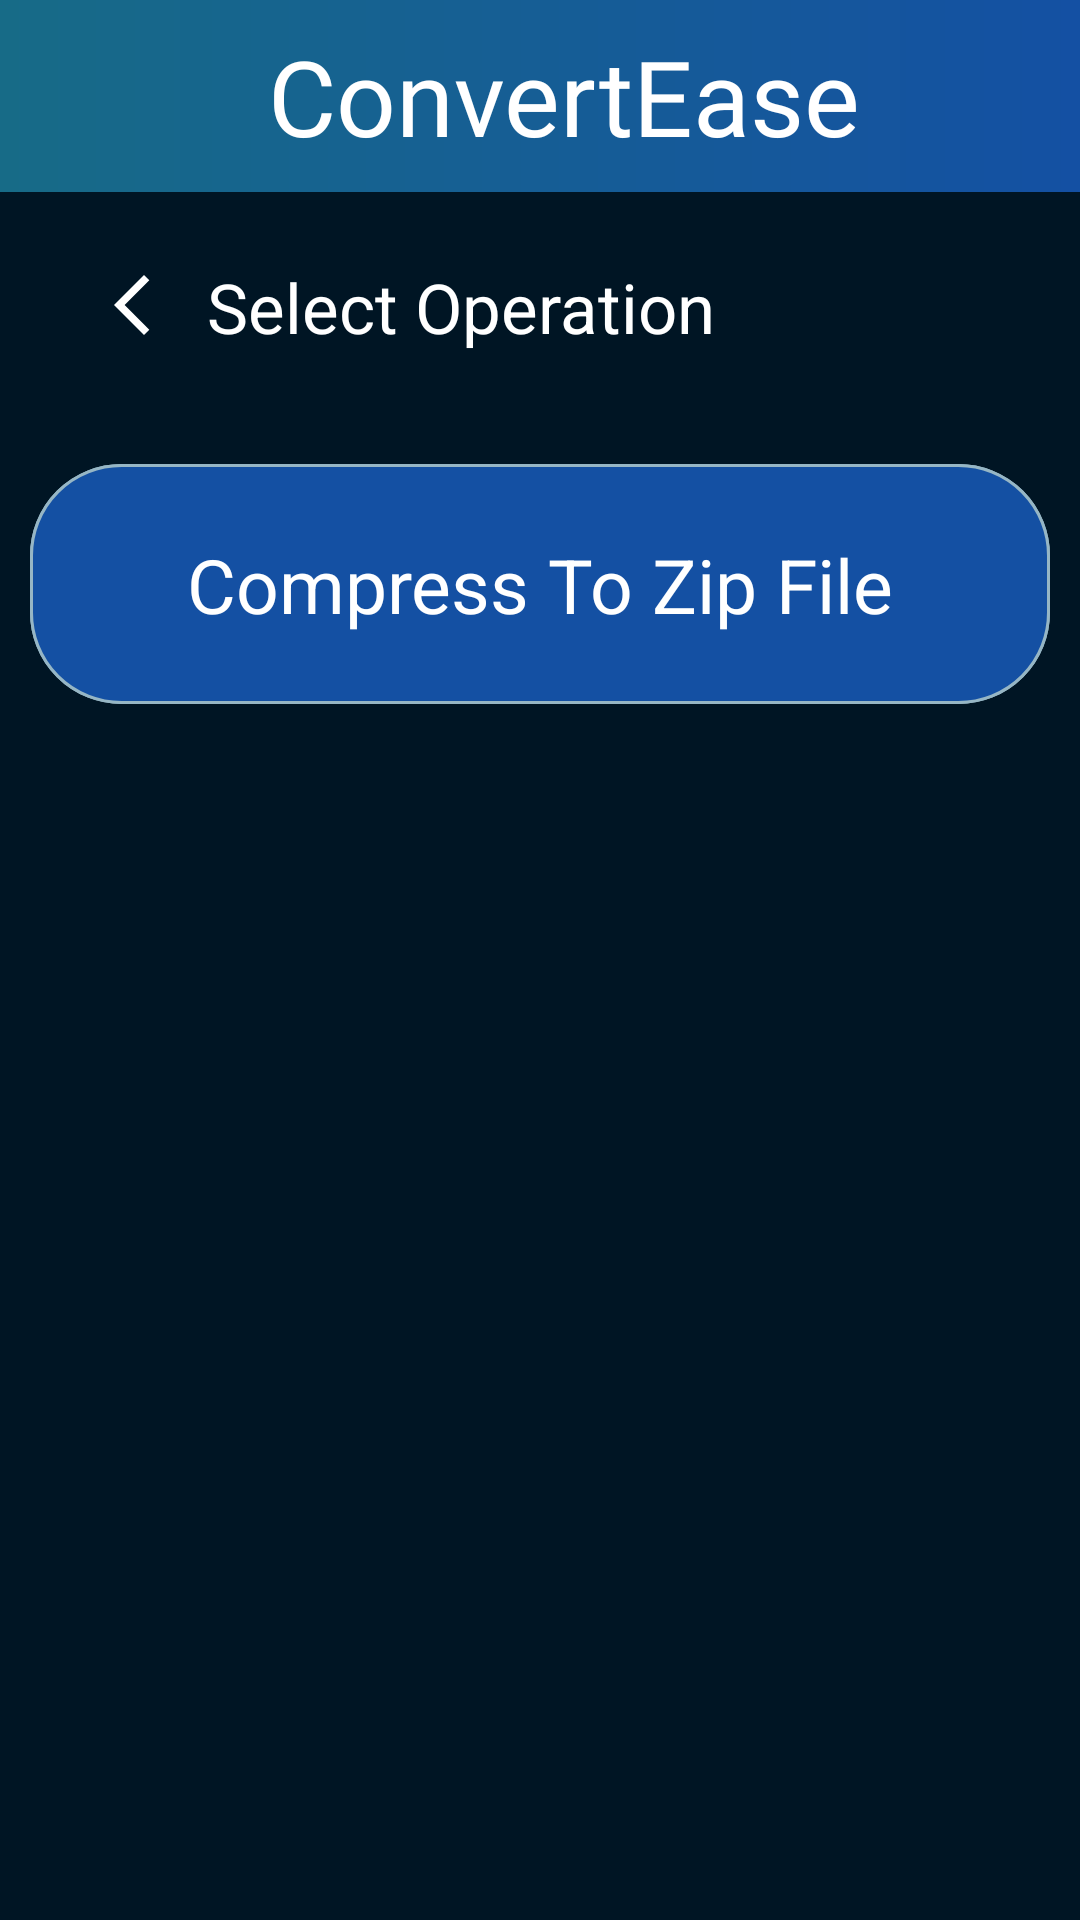

Icon bounding boxes for this 1080 × 1920 phone screenshot, format (x1, y1, x2, y2):
arrow back: (114, 275, 149, 335)
